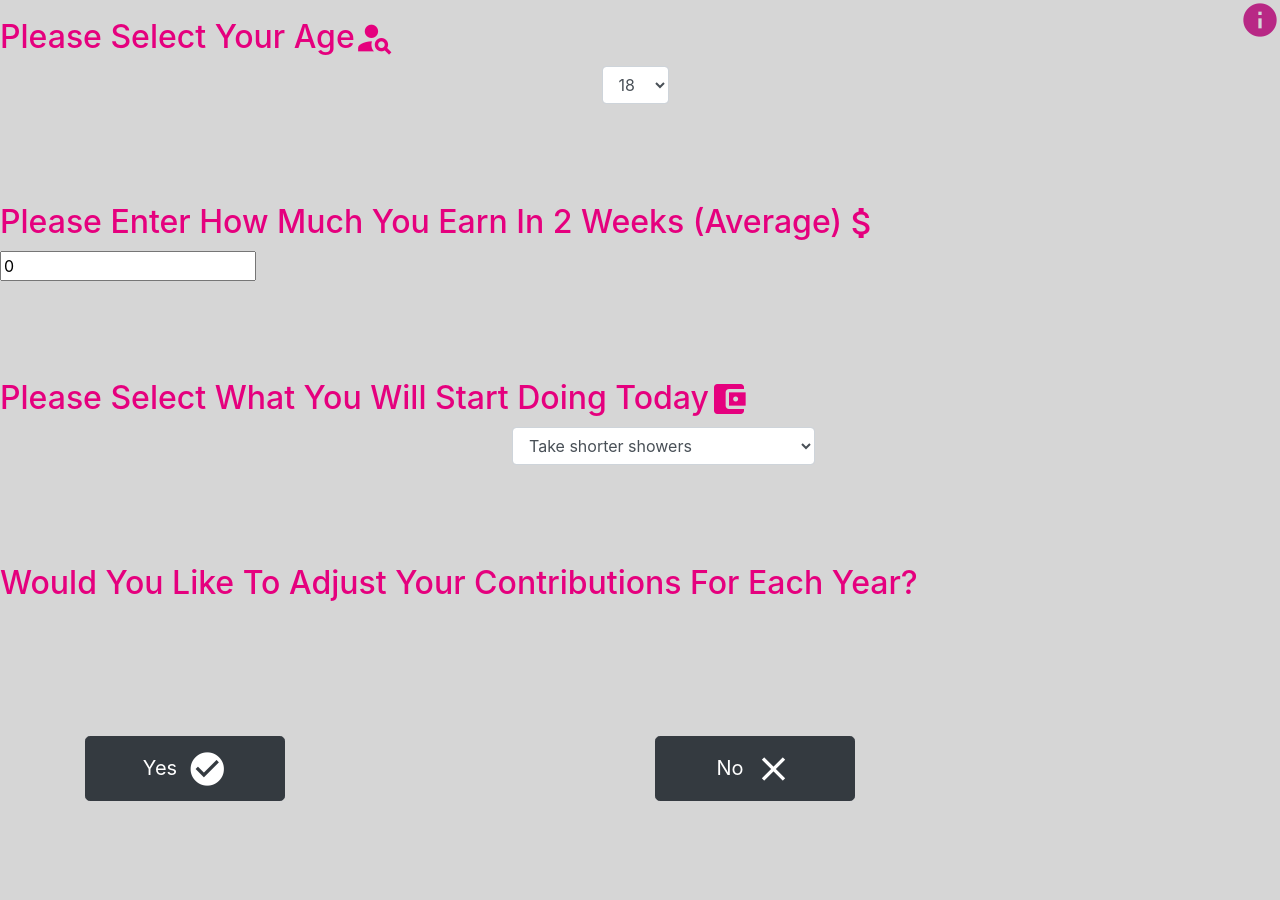
StartScreen Test Suite › Adjusting frequency of voluntary contributions works
Click the button "No" at (755,769), box [655,736,855,801]
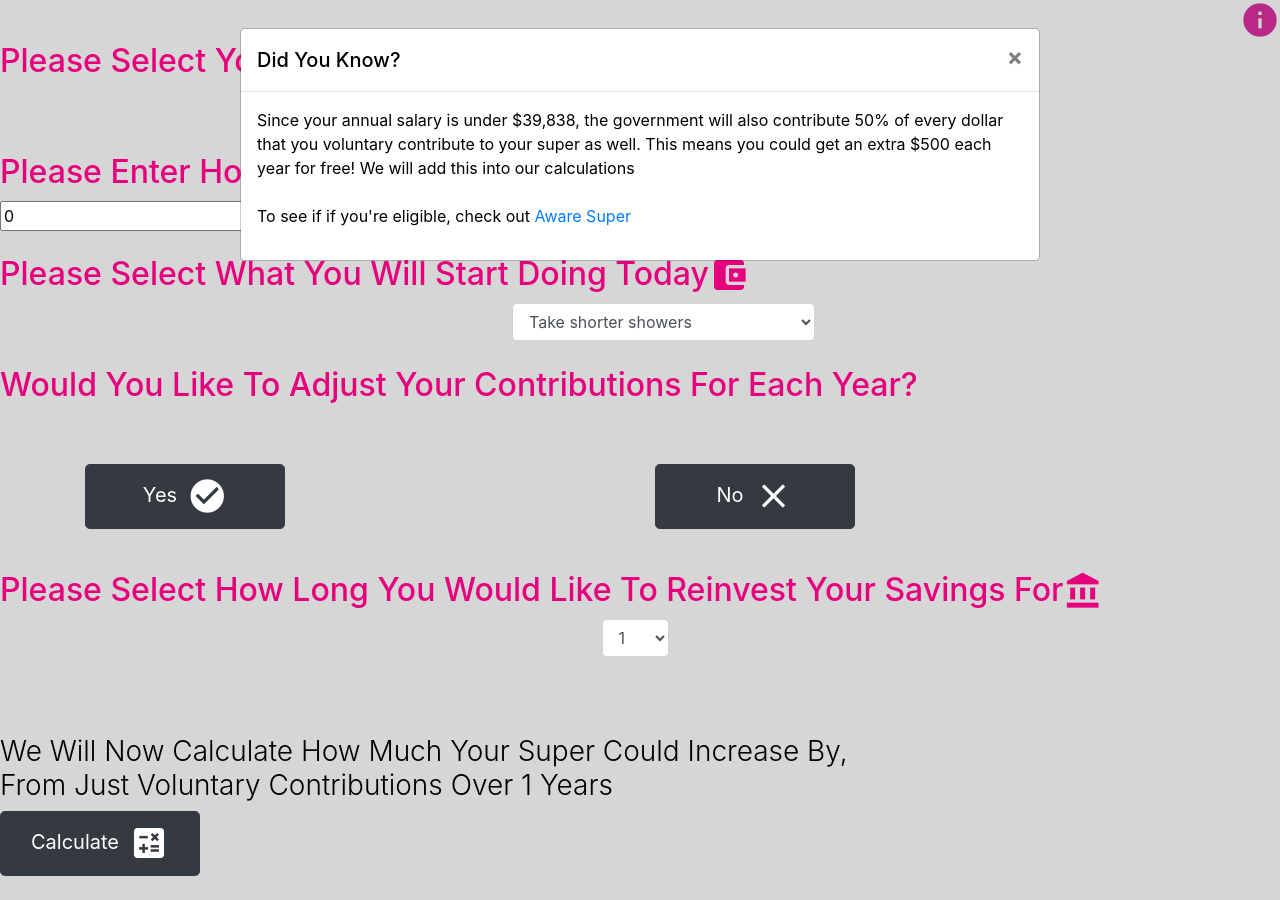
Click the button named "Close" at (1015,57), box [991,29,1039,85]
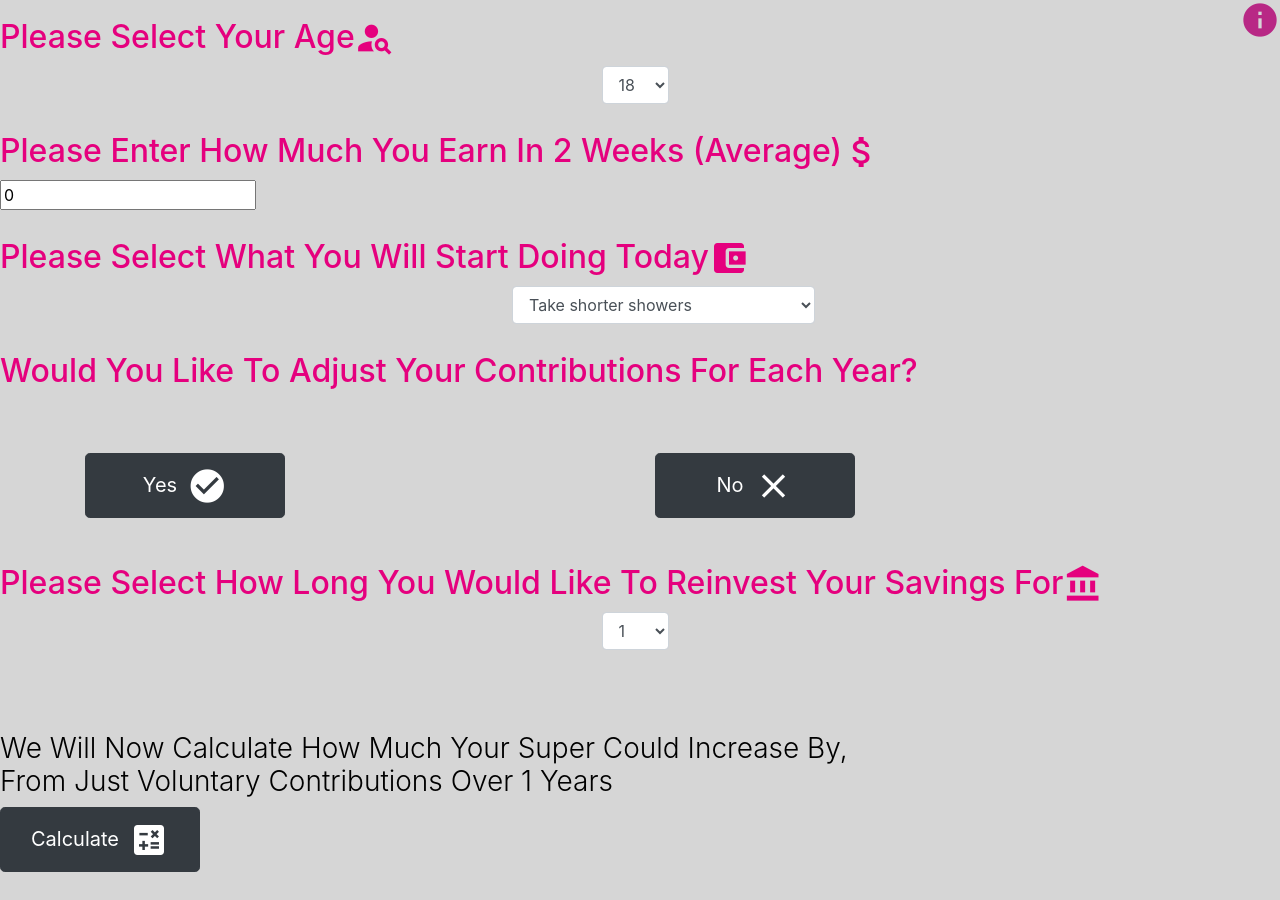
Check: the heading "Please Select How Long You Would Like To Reinvest Your Savings For" is shown, box [0,564,1279,604]
Check: the number of dropdowns showing "1" is 47
Check: the 3rd dropdown showing "1" shows "1"
Select "47" in the 3rd dropdown showing "1" at (635,631), box [602,612,669,650]
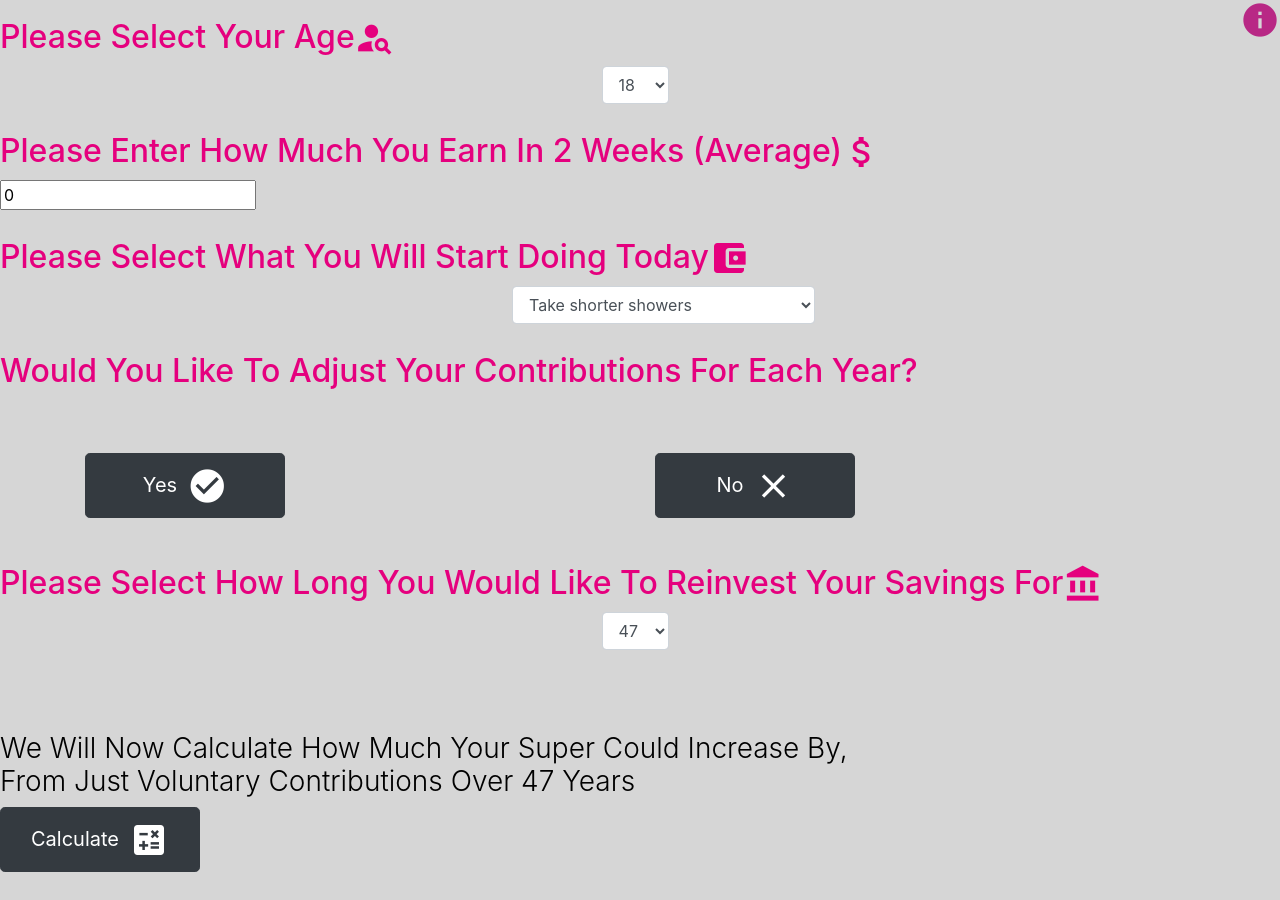
Check: the heading "From Just Voluntary Contributions Over 47 Years" is shown, box [0,731,848,798]
Select "30" in the dropdown showing "18" below "Please Select Your Age" at (635,85), box [602,66,669,104]
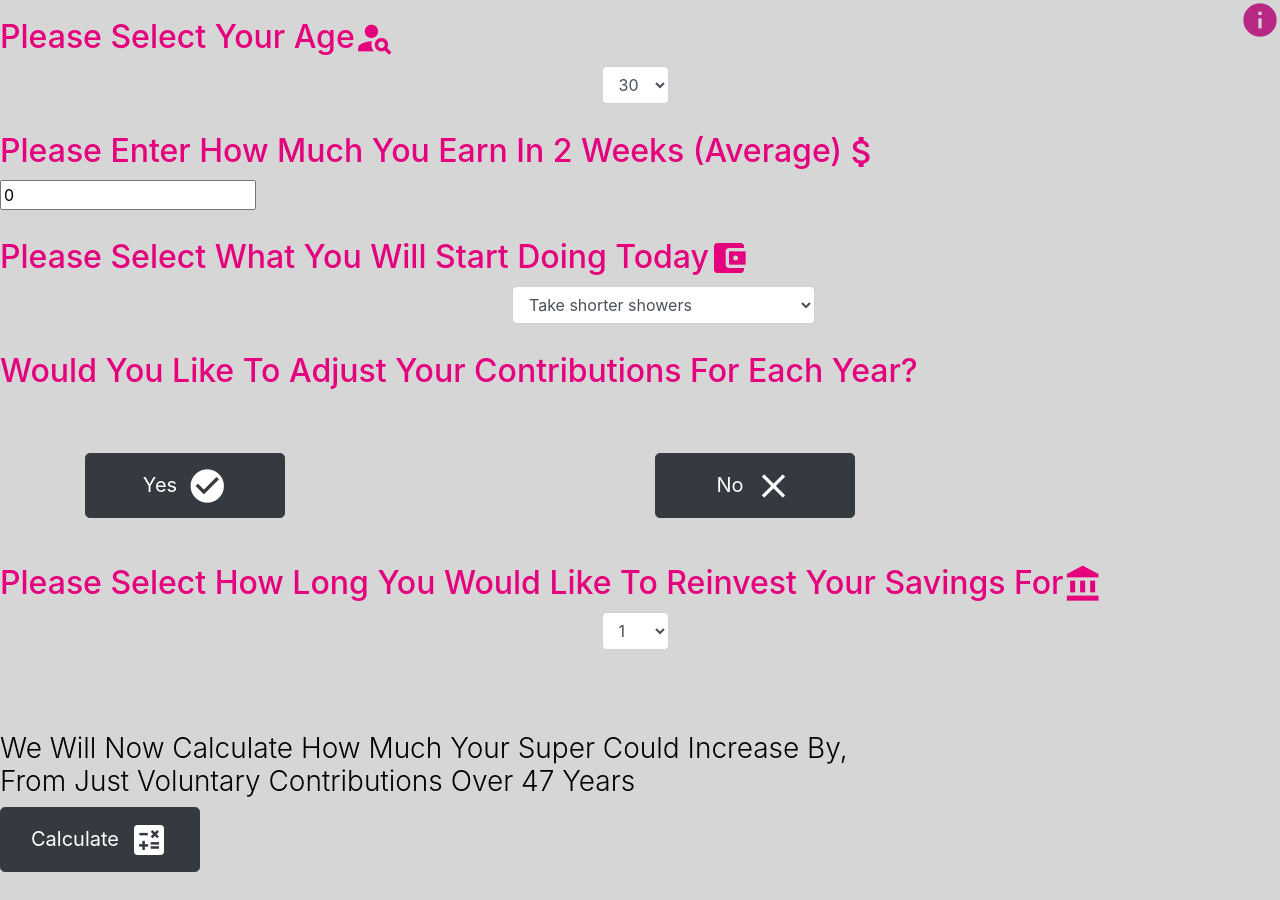
Check: the number of dropdowns showing "1" is 35, box [602,612,669,650]
